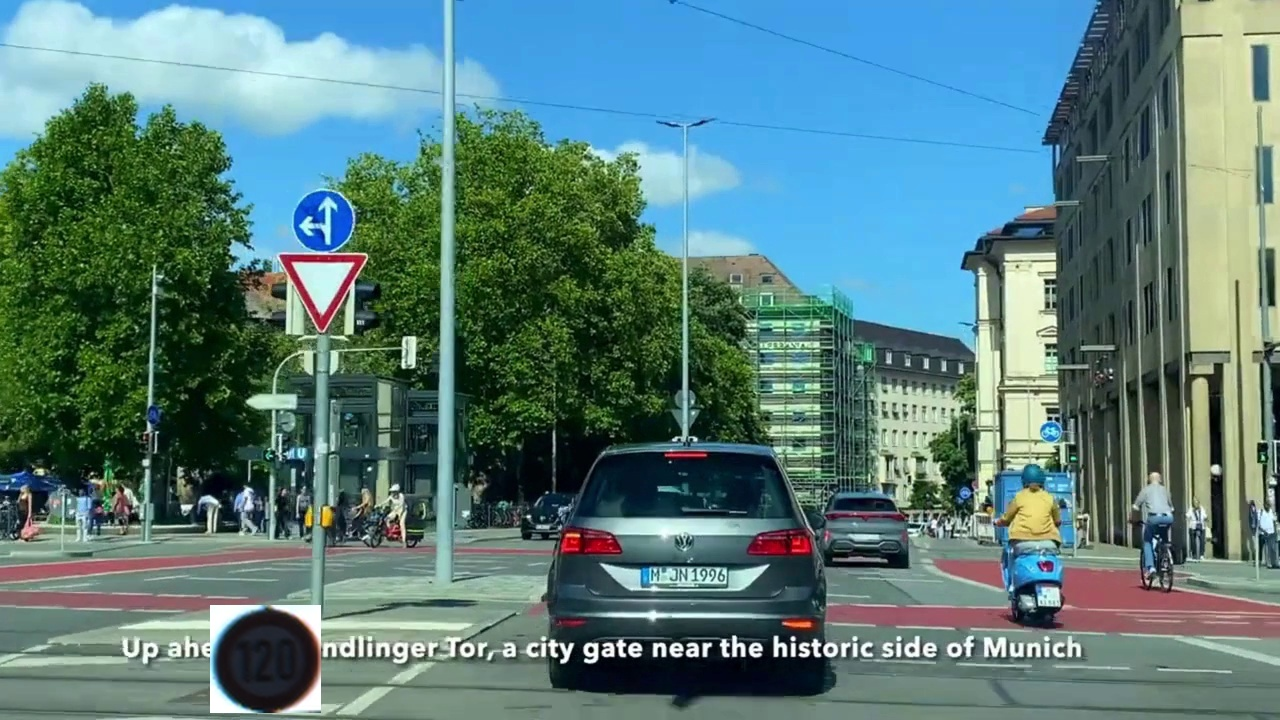Speed 120: (210, 605, 321, 713)
